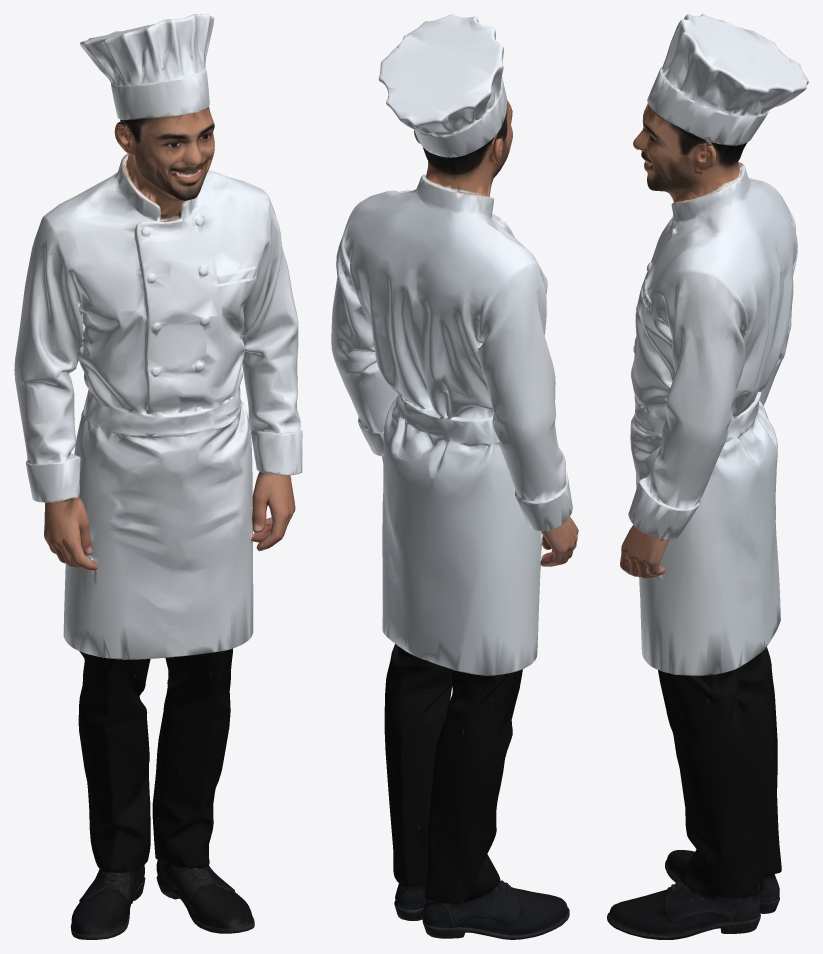
The model's file is chef.glb.
3 renders of one model, left to right at view 1: azimuth 30°, elevation 25°; view 2: azimuth 150°, elevation 25°; view 3: azimuth 270°, elevation 25°, orthographic.
Bounding box in the file's own units: 0.5467 × 1.9 × 0.3896.
Materials: 1 (1 with a texture image).
